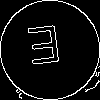E: (25, 25, 64, 74)
